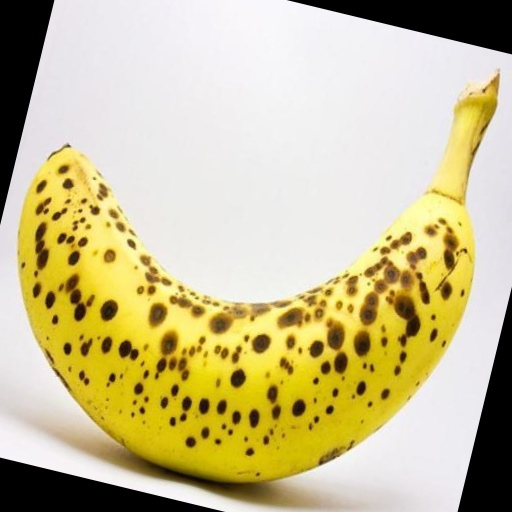fruit: (418, 113, 511, 293)
